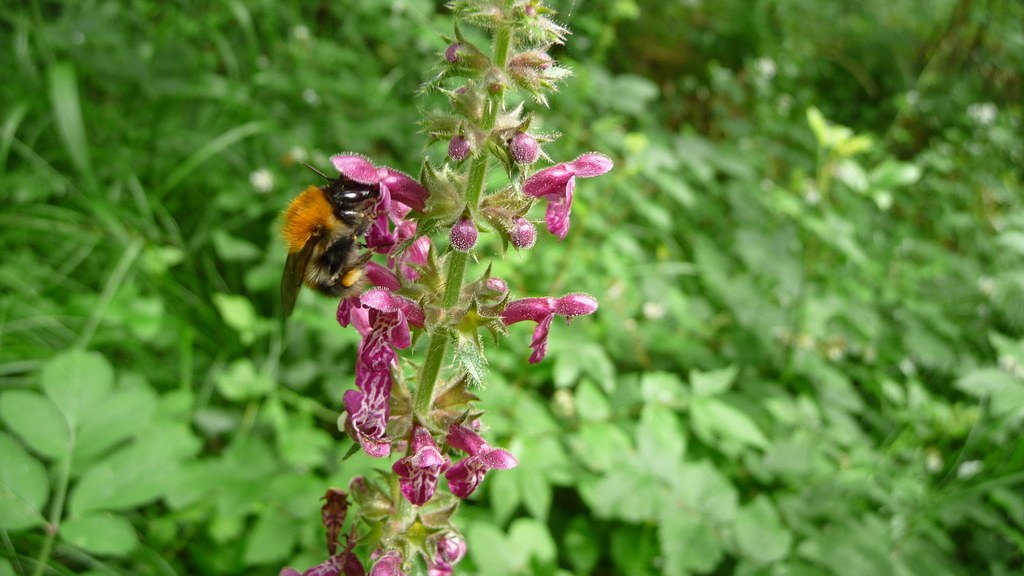bee: (271, 148, 405, 312)
insect: (278, 0, 614, 575), (475, 268, 595, 356), (248, 167, 276, 195), (291, 145, 310, 166), (756, 57, 774, 78), (977, 104, 992, 125)
